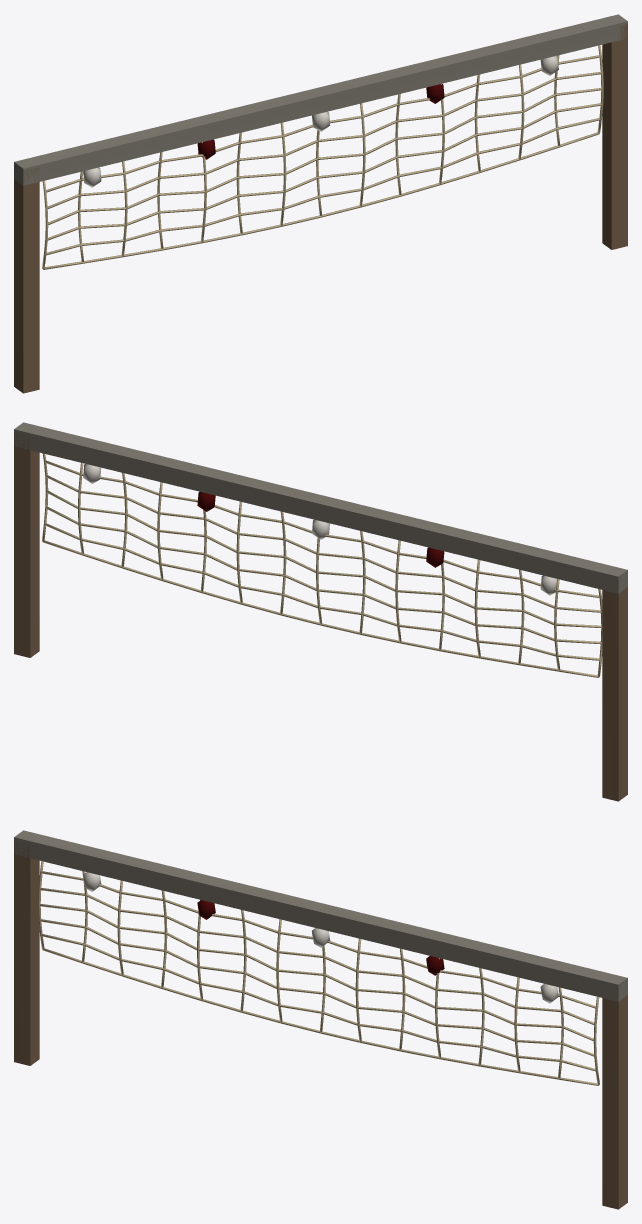
Rendered from Net_Hang.glb.
The picture shows the model from 3 angles, top to bottom: view 1: azimuth 30°, elevation 25°; view 2: azimuth 150°, elevation 25°; view 3: azimuth 330°, elevation 25°; orthographic projection.
Visible parts, largest first — view 1: Net_Hang; view 2: Net_Hang; view 3: Net_Hang.
Boxes of the visible parts, <box> form: Net_Hang: <box>14,14,627,393</box>; Net_Hang: <box>14,422,627,801</box>; Net_Hang: <box>14,830,627,1209</box>.
Size of the model in its own units: 7.4 by 2.63 by 0.2.
